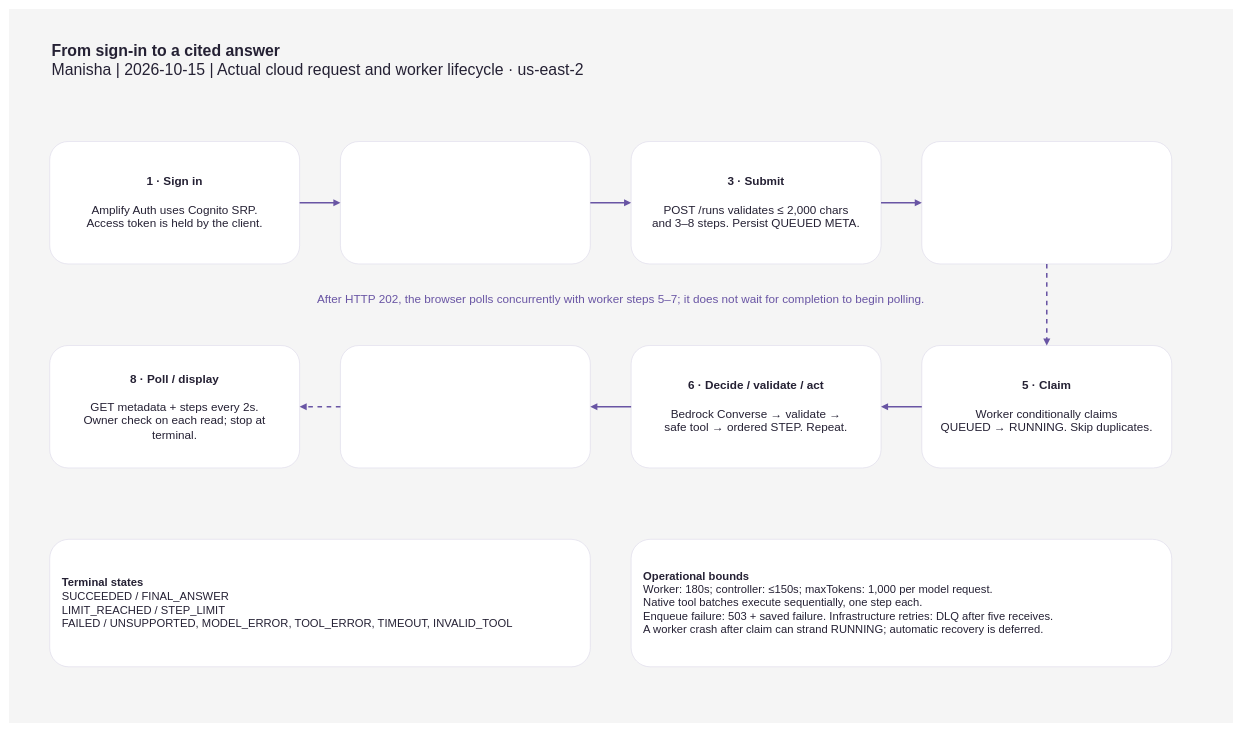
Some shapes in this 1241 by 731 pixel diagram are drawn without their labels. The shapes that lost their labels are listed below. From the top down, each one's centre as x and y in pixels, then its label:
point (465, 202): 2 · Authorize HTTP API validates JWT issuer, audience and required scope.
point (1046, 202): 4 · Enqueue Send run_id to SQS. Return 202 + run_id immediately.
point (465, 406): 7 · Finish Validate citation IDs. Persist final status, reason and actual usage.
